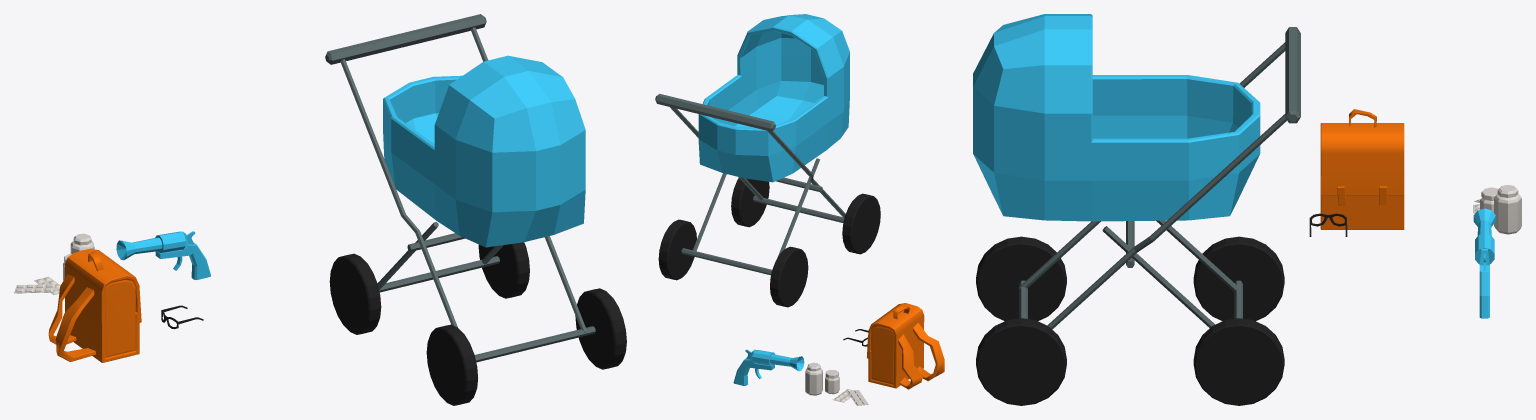
File: misc_items2.FBX
3 views of the same model, side by side, from view 1: azimuth 30°, elevation 25°; view 2: azimuth 150°, elevation 25°; view 3: azimuth 270°, elevation 25° (orthographic). The views are drawn at different scales.
Visible parts, largest first — view 1: kolyaska, bag, pistol, drugs; view 2: kolyaska, bag, drugs, pistol; view 3: kolyaska, bag, pistol, drugs.
Boxes of the visible parts, bbox=[...] form: kolyaska: bbox=[325, 14, 626, 405]; bag: bbox=[48, 248, 141, 362]; pistol: bbox=[116, 231, 210, 279]; drugs: bbox=[14, 233, 94, 294]; kolyaska: bbox=[655, 14, 880, 307]; bag: bbox=[867, 303, 944, 389]; drugs: bbox=[805, 362, 868, 405]; pistol: bbox=[733, 349, 804, 385]; kolyaska: bbox=[973, 14, 1300, 405]; bag: bbox=[1320, 109, 1404, 229]; pistol: bbox=[1473, 208, 1495, 318]; drugs: bbox=[1473, 185, 1521, 234].
Size of the model in its own units: 24.17 by 25.07 by 17.97.
